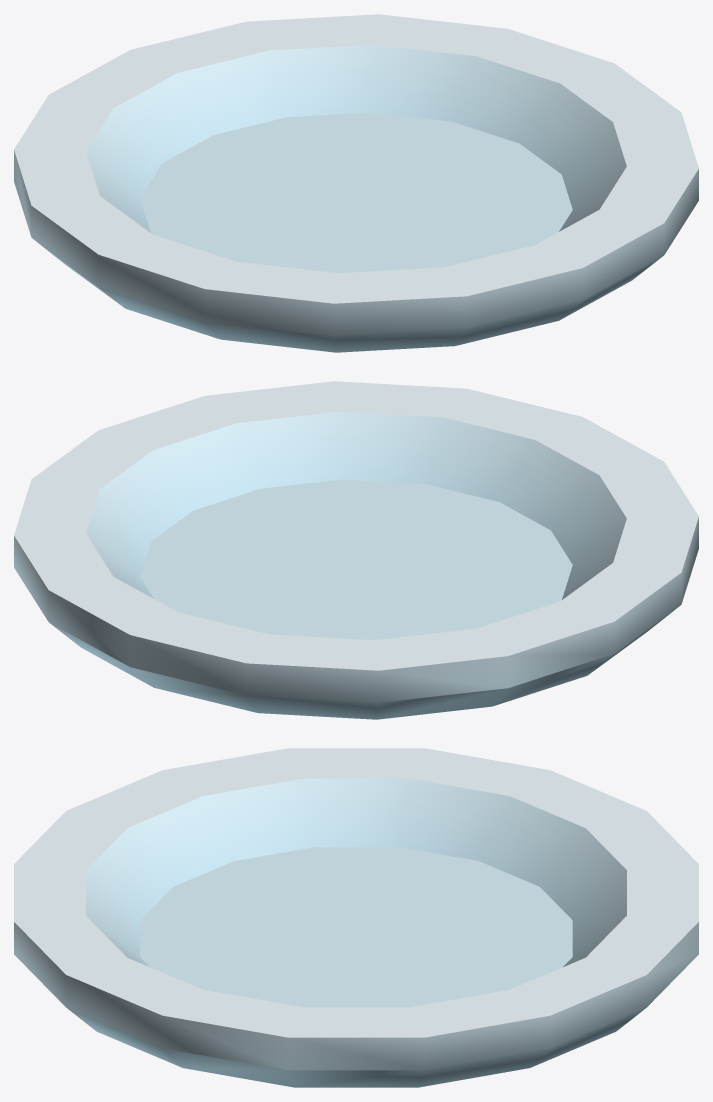
File: plate_white.fbx
The picture shows the model from 3 angles, top to bottom: view 1: azimuth 30°, elevation 25°; view 2: azimuth 150°, elevation 25°; view 3: azimuth 270°, elevation 25°; orthographic projection.
Parts seen in each view (by area): view 1: plate_white; view 2: plate_white; view 3: plate_white.
Boxes of the visible parts, x1=… form: plate_white: x1=14, y1=14, x2=698, y2=352; plate_white: x1=14, y1=381, x2=698, y2=719; plate_white: x1=14, y1=748, x2=698, y2=1087.
Bounding box in the file's own units: 95 × 10 × 95.
